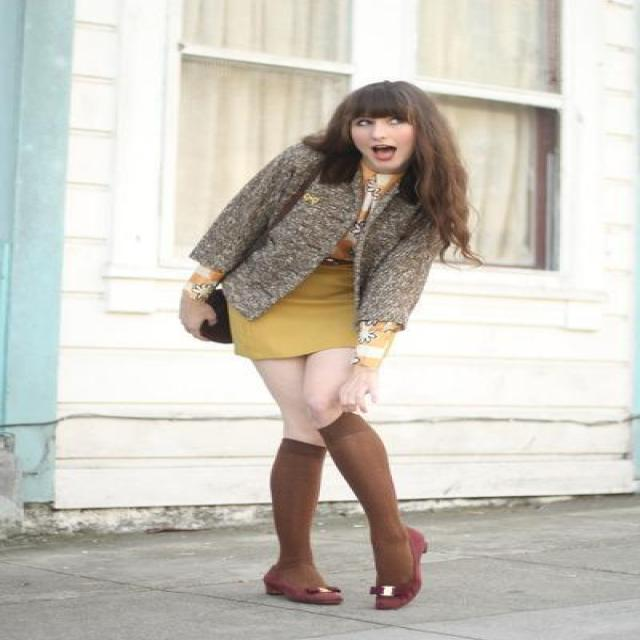bag: (198, 289, 230, 342)
jacket: (190, 141, 440, 359)
shoe: (262, 569, 420, 609)
skirt: (228, 269, 362, 368)
